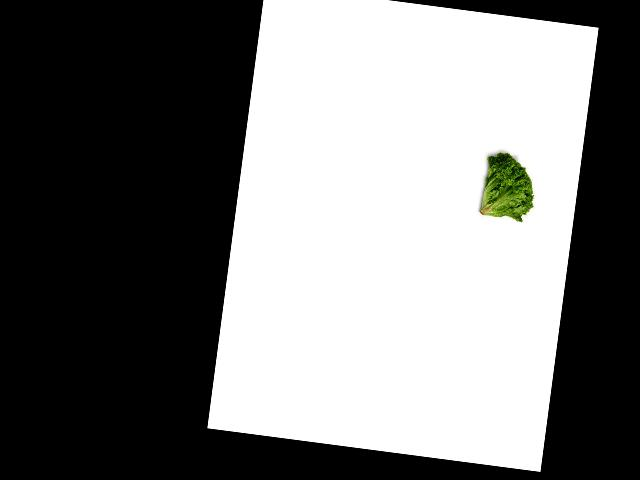lettuce: (472, 146, 543, 226)
